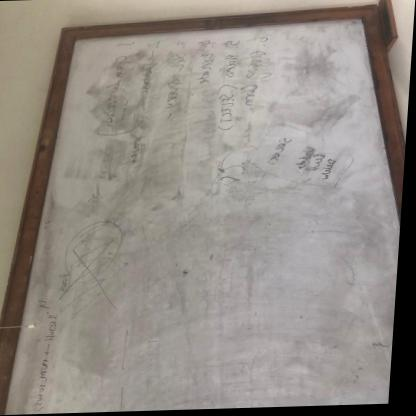Handwritten text: (126, 56, 162, 176), (96, 51, 132, 127), (160, 49, 196, 122), (240, 47, 276, 117), (216, 52, 243, 128), (192, 47, 222, 93)
Whiteboard: (0, 15, 394, 415)
